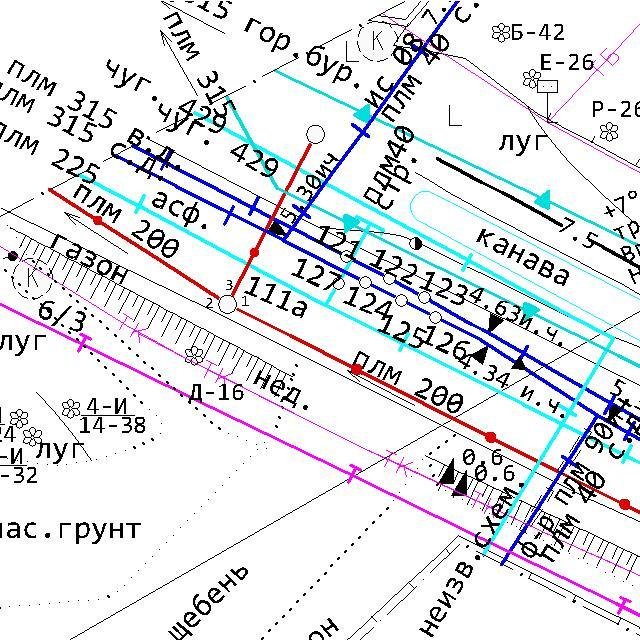asphalt: (150, 190, 209, 231)
bushes: (10, 256, 54, 301), (354, 20, 400, 63), (183, 345, 205, 367), (22, 425, 43, 448), (598, 121, 620, 142), (60, 398, 81, 420), (522, 68, 542, 90), (9, 408, 29, 430), (492, 22, 512, 43)
mark: (470, 344, 490, 366), (487, 311, 505, 334), (266, 220, 288, 238), (606, 402, 624, 424), (510, 356, 527, 372)
well: (215, 292, 240, 317), (303, 122, 328, 146), (356, 274, 375, 292), (393, 291, 411, 309), (427, 308, 444, 326), (330, 275, 347, 292), (339, 247, 355, 265), (382, 270, 398, 287), (416, 290, 433, 306)
